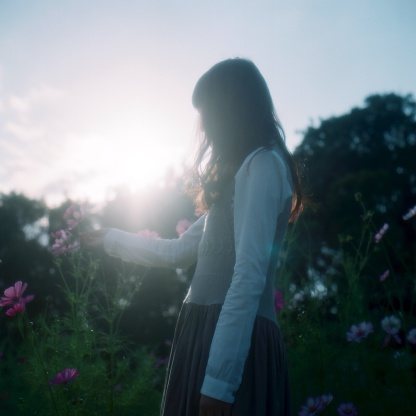em pe: (120, 55, 297, 416)
